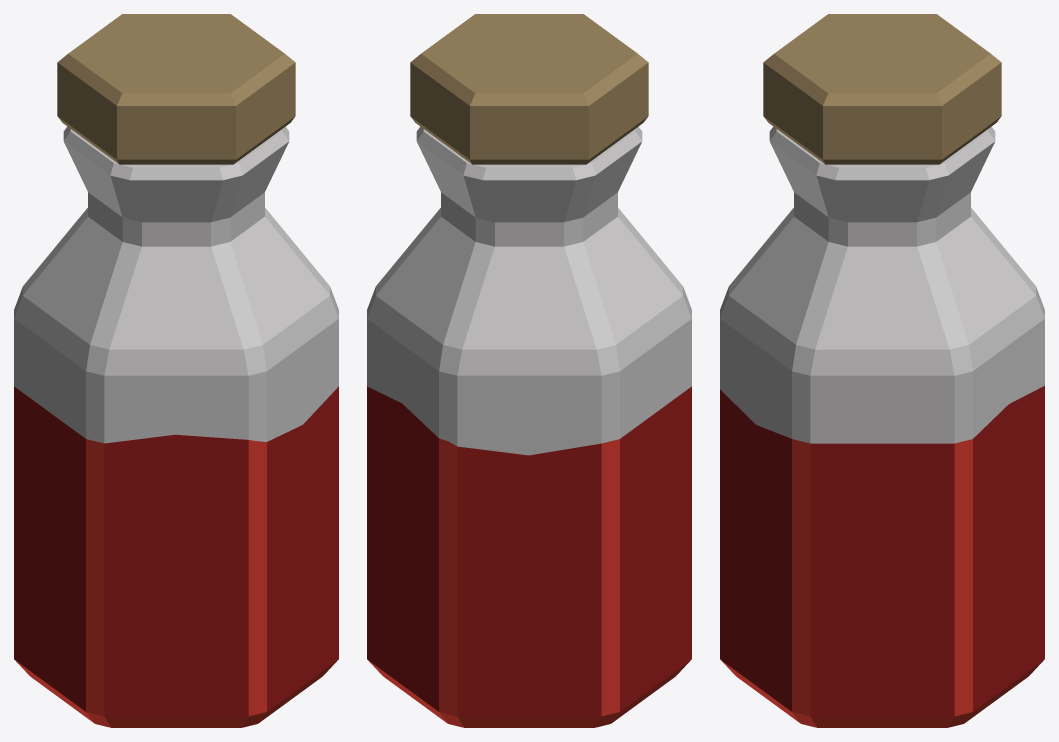
File: WF_LP_HT_Props_PotionBottle.013.fbx
The picture shows the model from 3 angles, left to right: view 1: azimuth 30°, elevation 25°; view 2: azimuth 150°, elevation 25°; view 3: azimuth 270°, elevation 25°; orthographic projection.
Parts seen in each view (by area): view 1: WF_LP_HT_Props_PotionBottle.013; view 2: WF_LP_HT_Props_PotionBottle.013; view 3: WF_LP_HT_Props_PotionBottle.013.
Part boxes in pixels (x1,y1,x2,y2): WF_LP_HT_Props_PotionBottle.013: (14,14,338,727); WF_LP_HT_Props_PotionBottle.013: (367,14,691,727); WF_LP_HT_Props_PotionBottle.013: (720,14,1044,727).
Bounding box in the file's own units: 0.1857 × 0.4342 × 0.2066.
